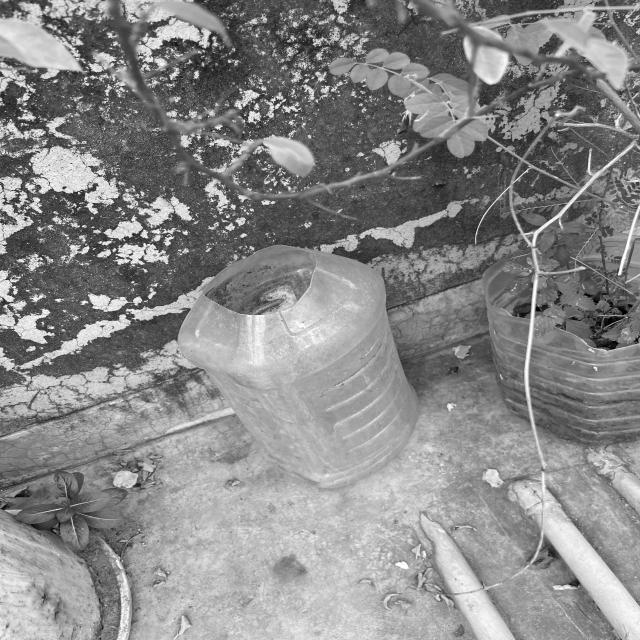Breeding Place: (176, 246, 417, 488), (495, 234, 640, 445)
